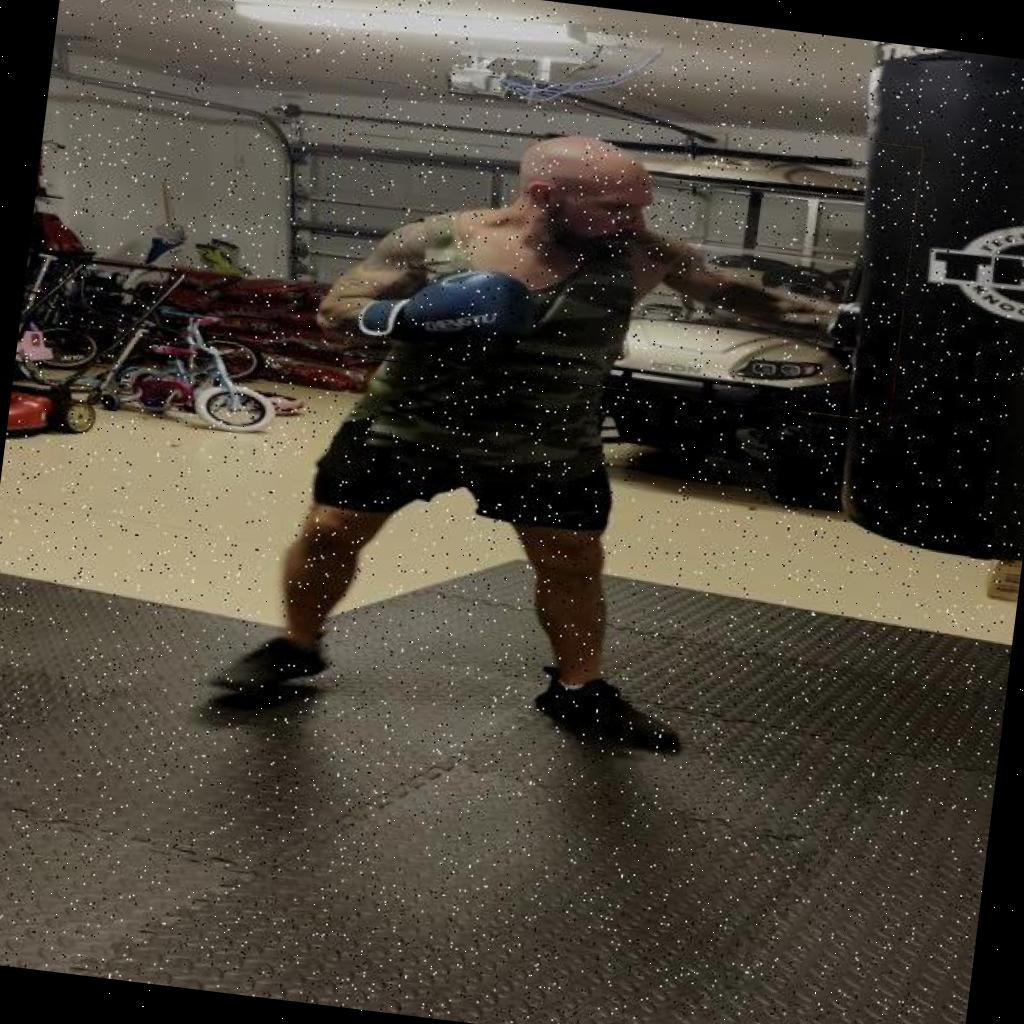bag: (802, 39, 1024, 572)
hook: (312, 77, 922, 422)
